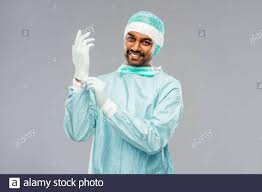Indian_Male: (124, 22, 156, 65)
